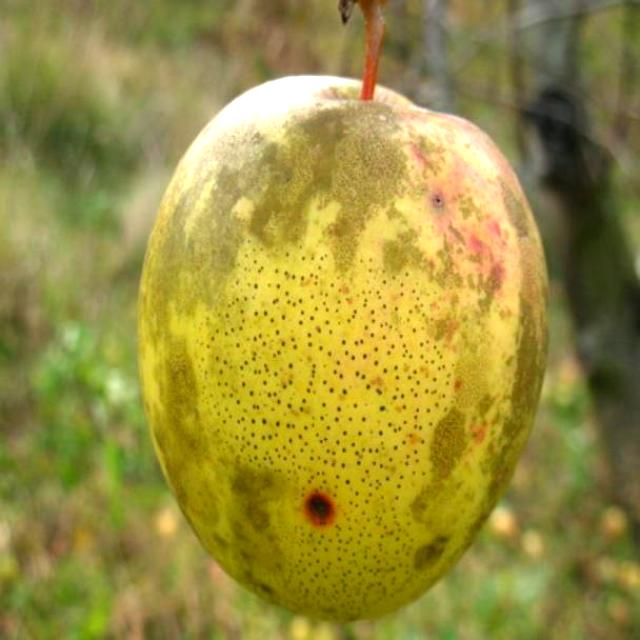BLOTCH: (135, 36, 574, 629)
